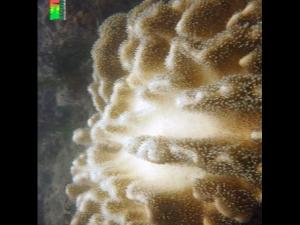bleached_corals: (66, 0, 262, 225)
